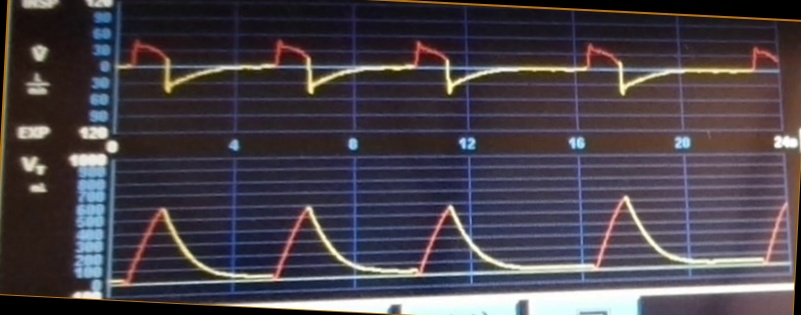Normal Flow: (119, 34, 778, 115)
Normal Volume: (115, 188, 788, 282)
